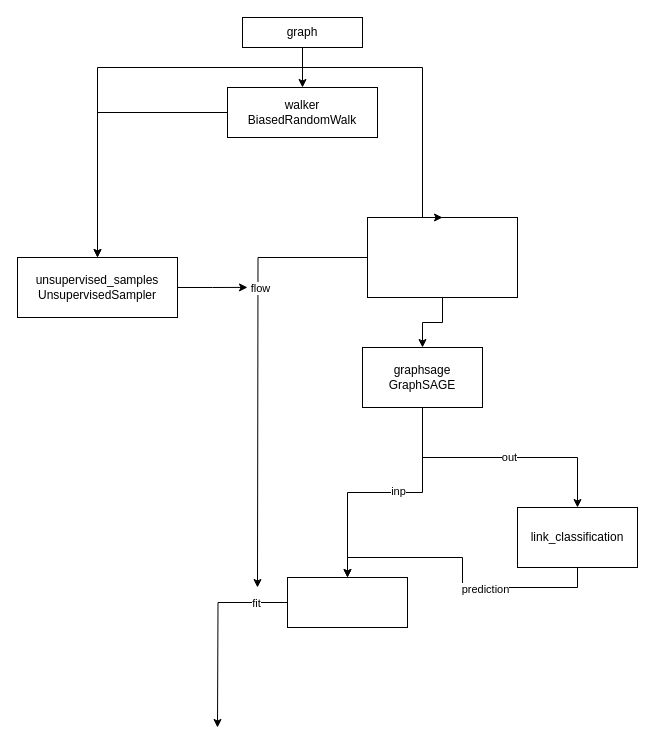
This 655x753 diagram has some shape labels left out. Each missing label, with the centre of its shape:
"generator GraphSAGELinkGenerator" belongs at (x=442, y=257).
"model keras.Model" belongs at (x=347, y=602).
